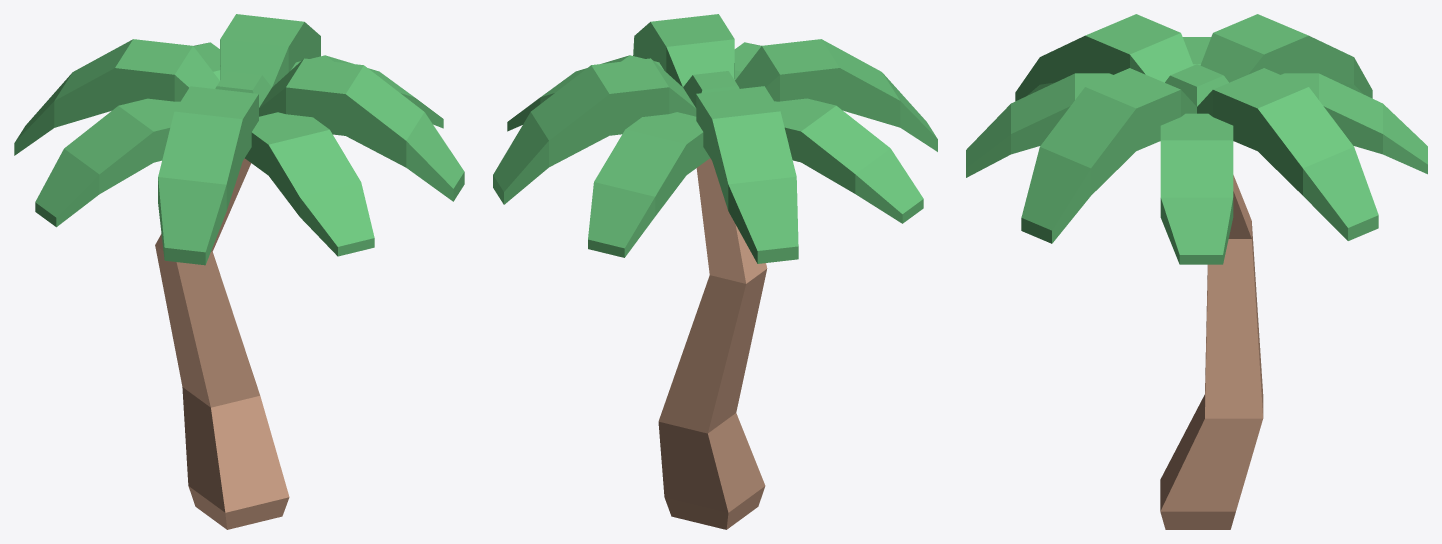
The model's file is nature_tree_palmDetailedShort.glb.
The picture shows the model from 3 angles, left to right: view 1: azimuth 30°, elevation 25°; view 2: azimuth 150°, elevation 25°; view 3: azimuth 270°, elevation 25°; orthographic projection. The views are drawn at different scales.
Parts seen in each view (by area): view 1: nature_tree_palmDetailedShort; view 2: nature_tree_palmDetailedShort; view 3: nature_tree_palmDetailedShort.
Boxes of the visible parts, x1=… form: nature_tree_palmDetailedShort: x1=14, y1=14, x2=464, y2=529; nature_tree_palmDetailedShort: x1=493, y1=14, x2=937, y2=529; nature_tree_palmDetailedShort: x1=966, y1=14, x2=1427, y2=529.
Bounding box in the file's own units: 1.03 × 1.12 × 1.03.
